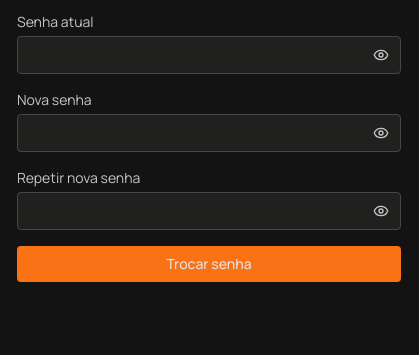
Test: ChangePasswordForm › confirma o sucesso e limpa os campos
Type "senha-atual-123" into the password field labelled "Senha atual".
click(209, 55); type("senha-atual-123")  # box [17, 36, 401, 74]
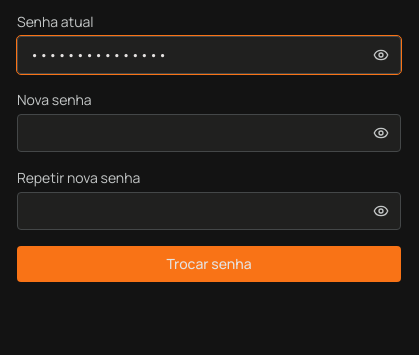
Type "uma-senha-nova-forte" into the password field labelled "Nova senha".
click(209, 133); type("uma-senha-nova-forte")  # box [17, 114, 401, 152]
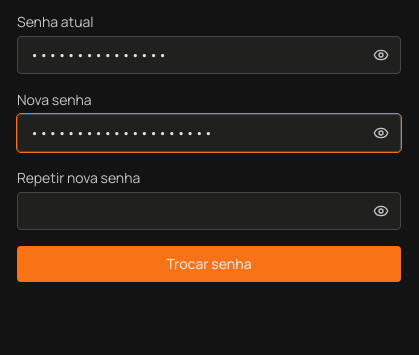
Type "uma-senha-nova-forte" into the password field labelled "Repetir nova senha".
click(209, 211); type("uma-senha-nova-forte")  # box [17, 192, 401, 230]
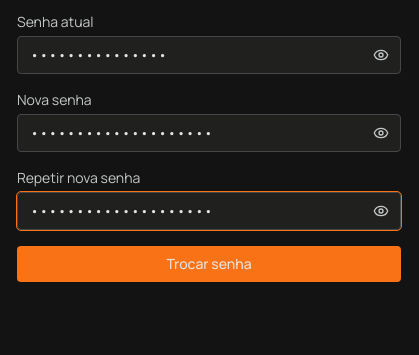
Click the button "Trocar senha".
click(209, 264)  # box [17, 246, 401, 282]
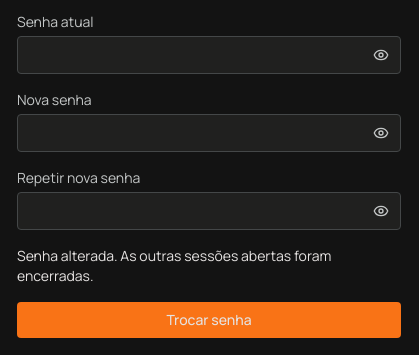
Check: the message shows "Senha alterada", box [17, 246, 331, 285]
Check: the password field labelled "Senha atual" is empty, box [17, 36, 401, 74]
Check: the password field labelled "Nova senha" is empty, box [17, 114, 401, 152]
